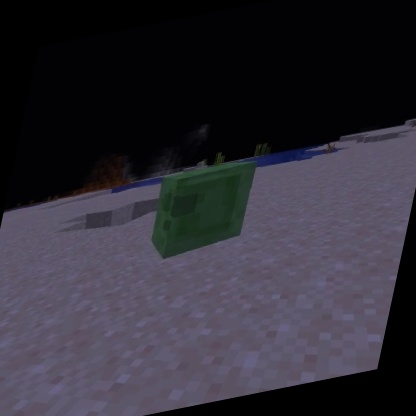slime: (139, 154, 262, 267)
